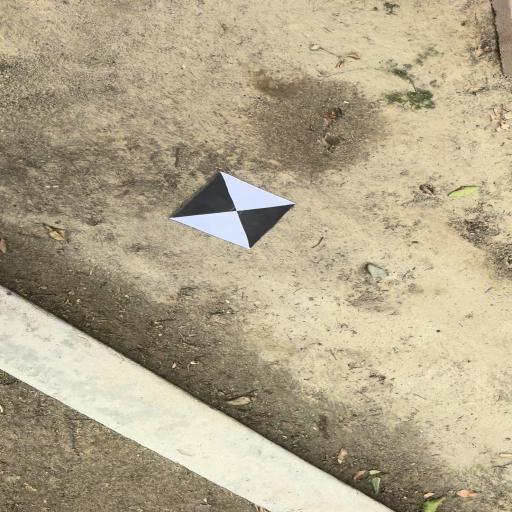target: (168, 171, 295, 249)
